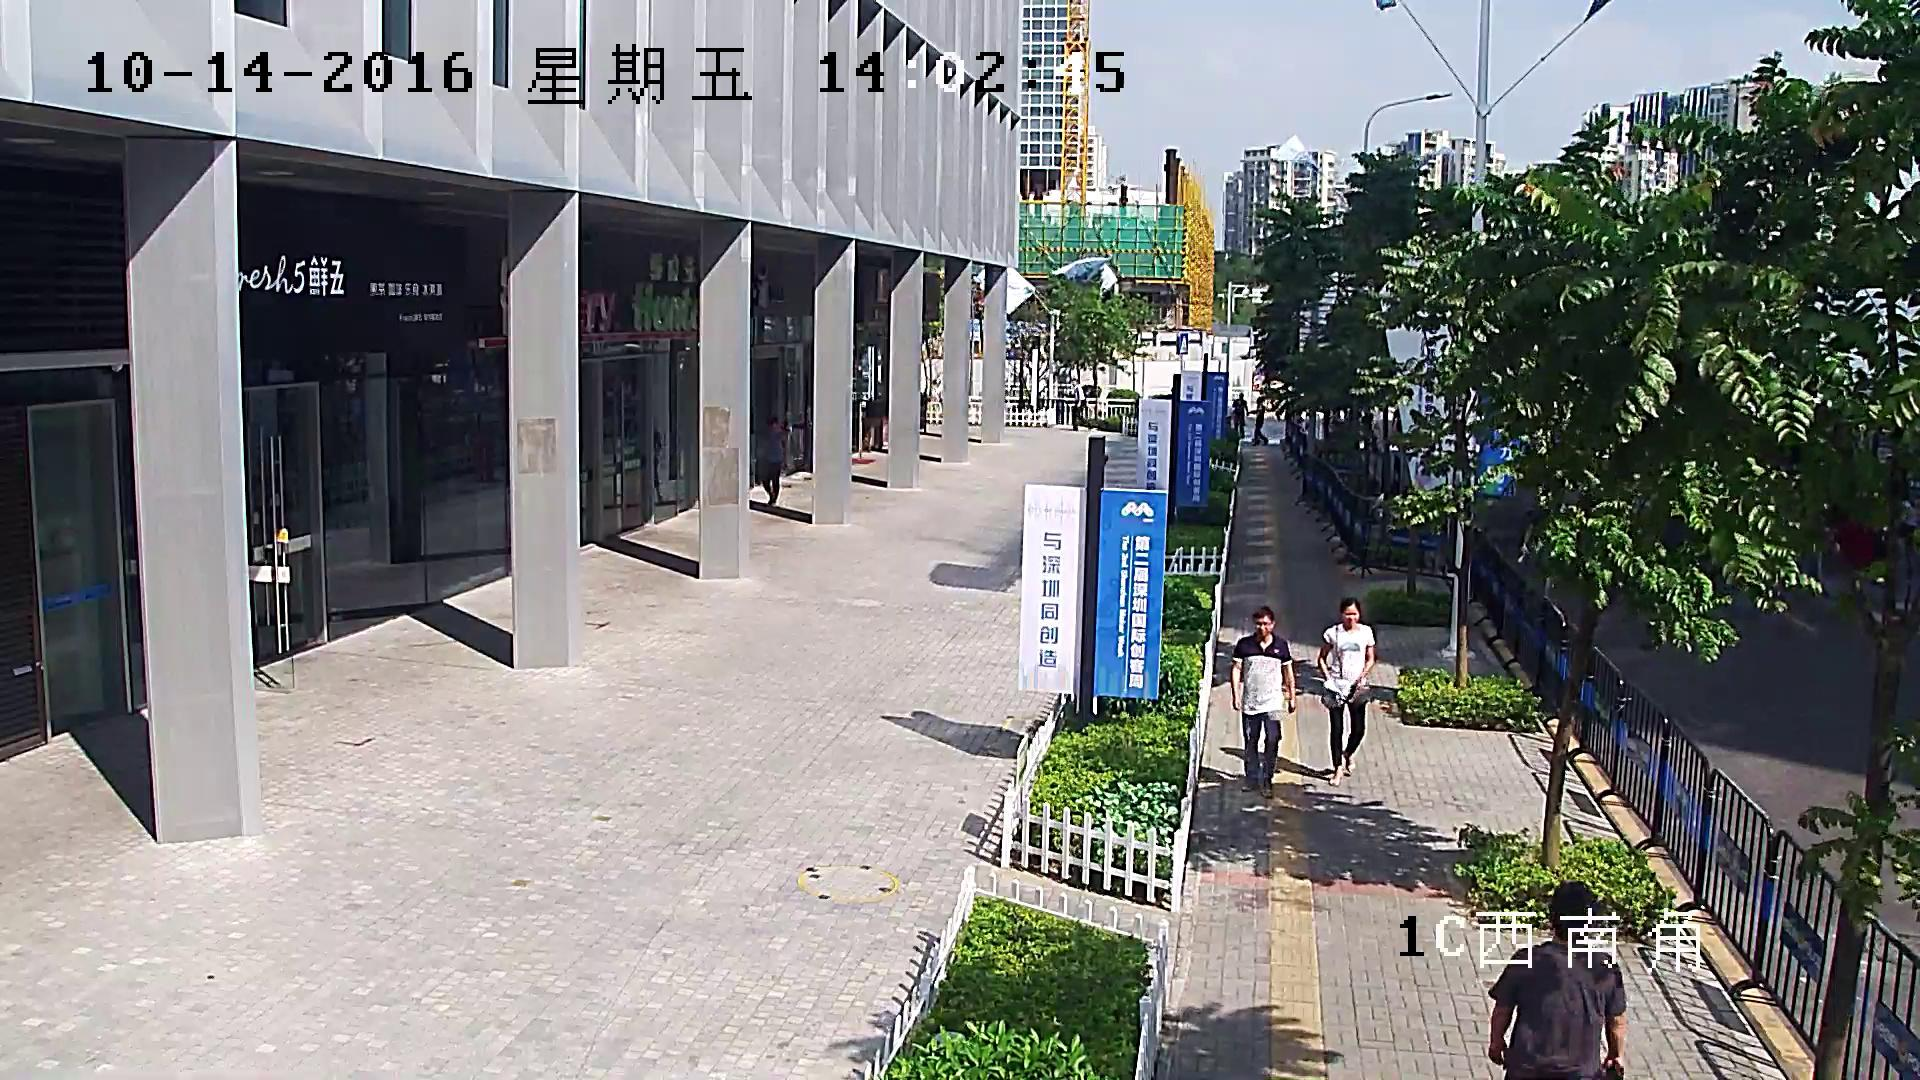person: (1487, 880, 1628, 1080), (1230, 605, 1297, 799), (1317, 596, 1378, 788), (758, 415, 790, 508), (1247, 397, 1269, 446), (1231, 392, 1249, 438)
